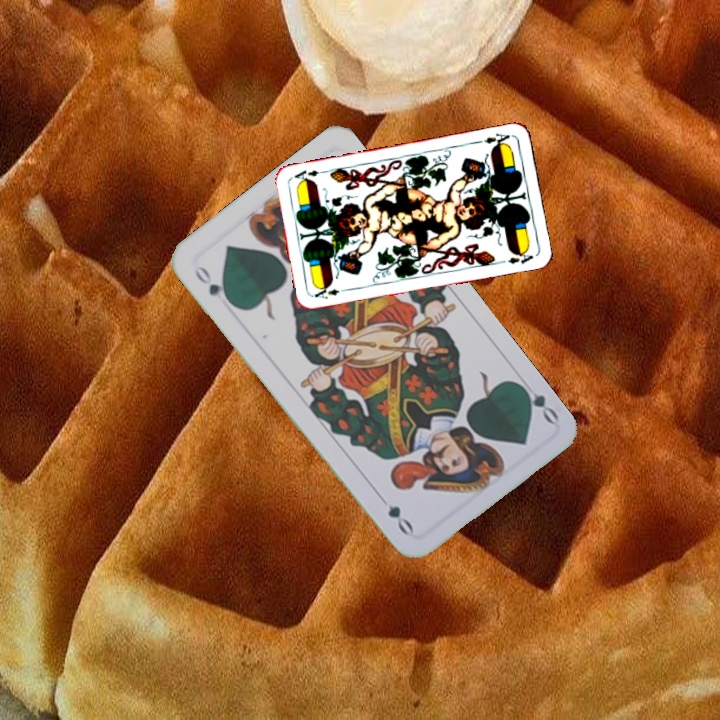EA: (310, 283, 350, 302), (480, 129, 512, 149)
GO: (513, 379, 561, 427), (190, 261, 235, 308)
